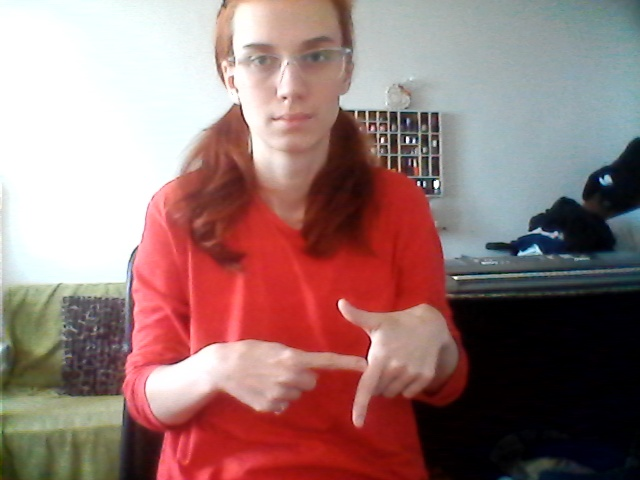f: (235, 293, 444, 436)
